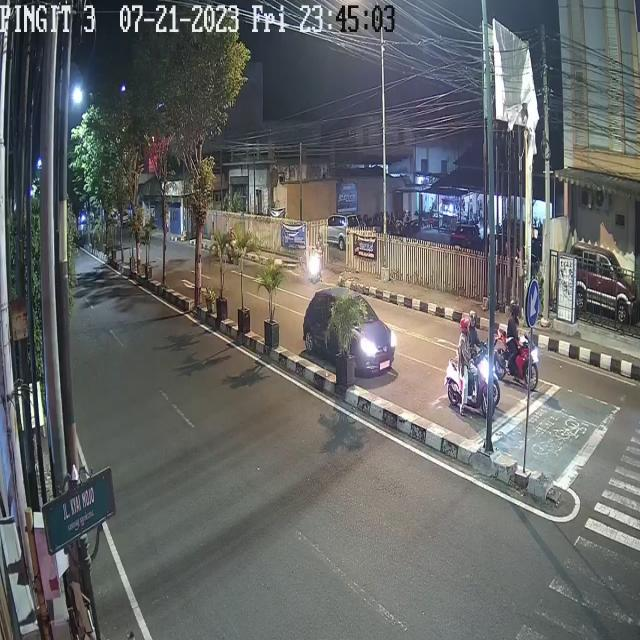car: (304, 286, 399, 376)
motorcycle: (460, 306, 502, 410), (445, 317, 488, 418), (496, 300, 539, 388), (311, 234, 323, 280)
